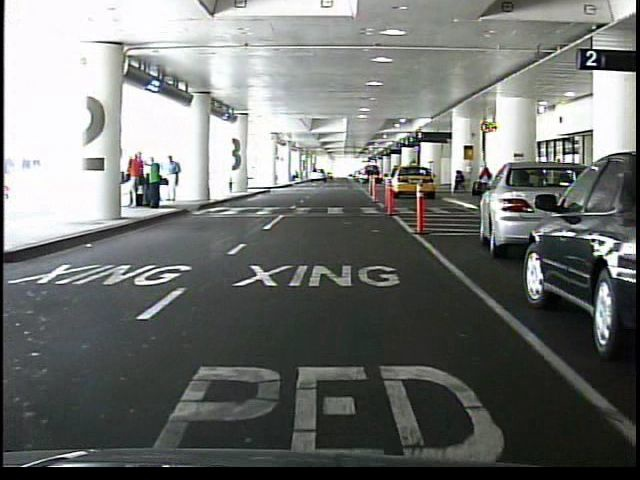person: (147, 155, 163, 210), (130, 151, 144, 207), (167, 155, 183, 204), (479, 162, 492, 196), (450, 171, 466, 196)
